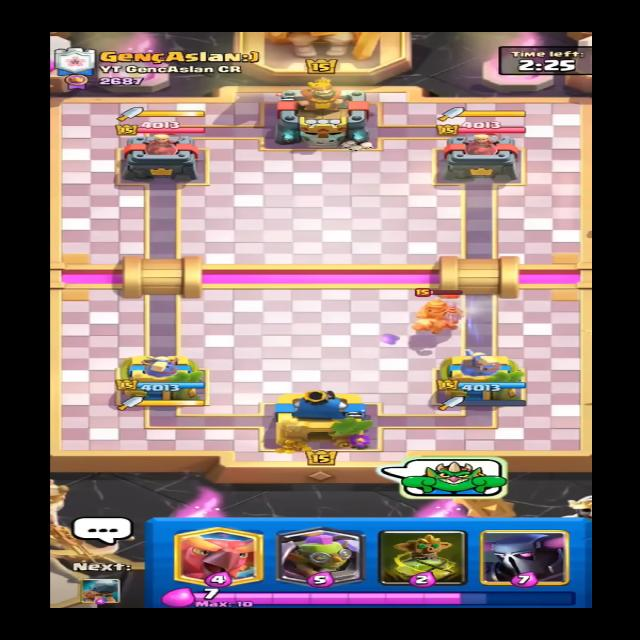prince: (409, 284, 471, 344)
